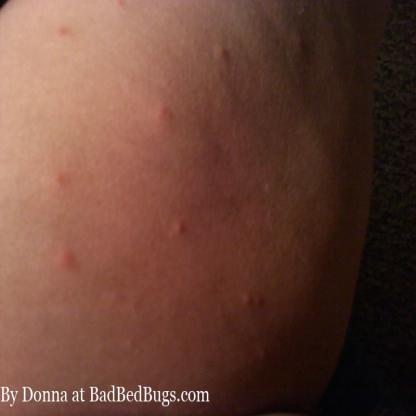Bed Bug: (55, 240, 82, 272), (290, 23, 309, 63), (239, 286, 268, 308), (154, 101, 175, 130), (213, 41, 235, 65), (105, 0, 137, 16), (171, 212, 189, 236), (54, 172, 73, 192), (54, 20, 68, 41), (254, 341, 268, 362)
